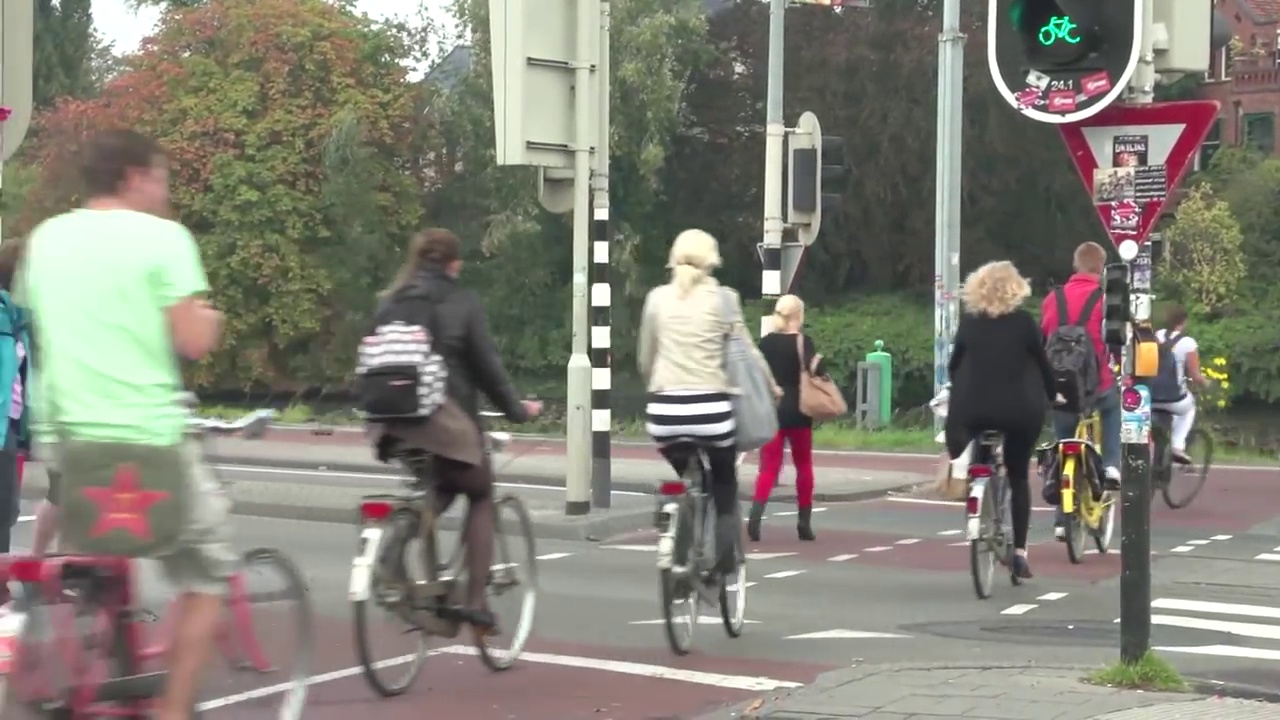cyclist_back: (21, 99, 309, 711), (354, 224, 547, 699), (633, 228, 764, 648), (941, 249, 1050, 597), (1038, 232, 1134, 570), (1152, 274, 1227, 551)
